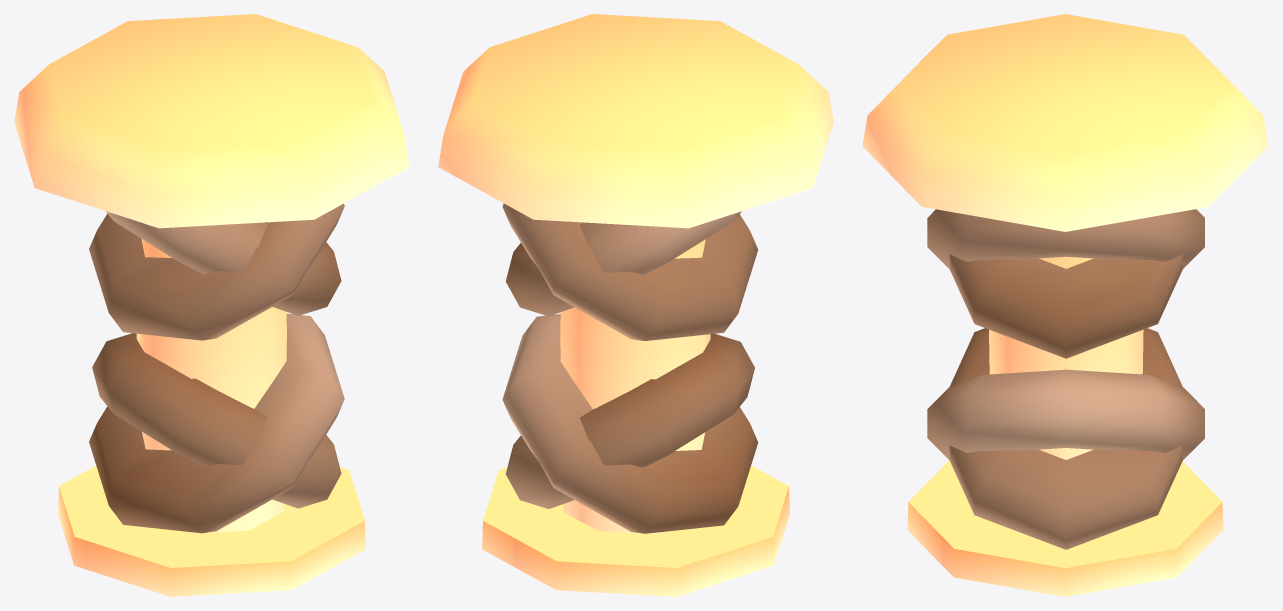
File: wood_grip_107_004.glb
3 views of the same model, side by side, from view 1: azimuth 30°, elevation 25°; view 2: azimuth 150°, elevation 25°; view 3: azimuth 270°, elevation 25° (orthographic).
Visible parts, largest first — view 1: wood_grip_107.004; view 2: wood_grip_107.004; view 3: wood_grip_107.004.
Part boxes in pixels (x1,y1,x2,y2): wood_grip_107.004: (14,14,409,596); wood_grip_107.004: (438,14,833,596); wood_grip_107.004: (862,14,1268,596).
Bounding box in the file's own units: 2.62 × 3.16 × 2.62.
1 material, 1 textured.
